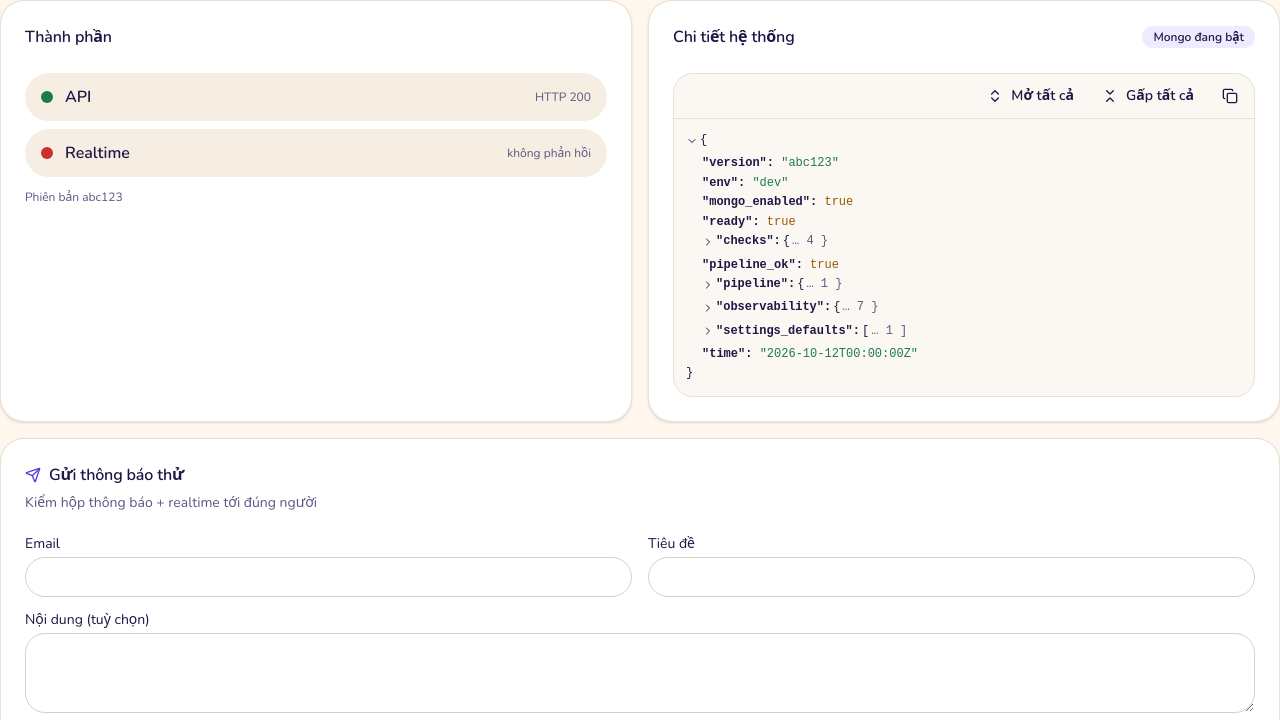
StatusPage (superadmin) › email không có user (1001) → lỗi trong thẻ kèm Mã tra cứu
The image size is (1280, 720).
Type "khong-co@test.local" into the field with test id "send-test-email" at (328, 577), box top-left (25, 557), bottom-right (632, 597)
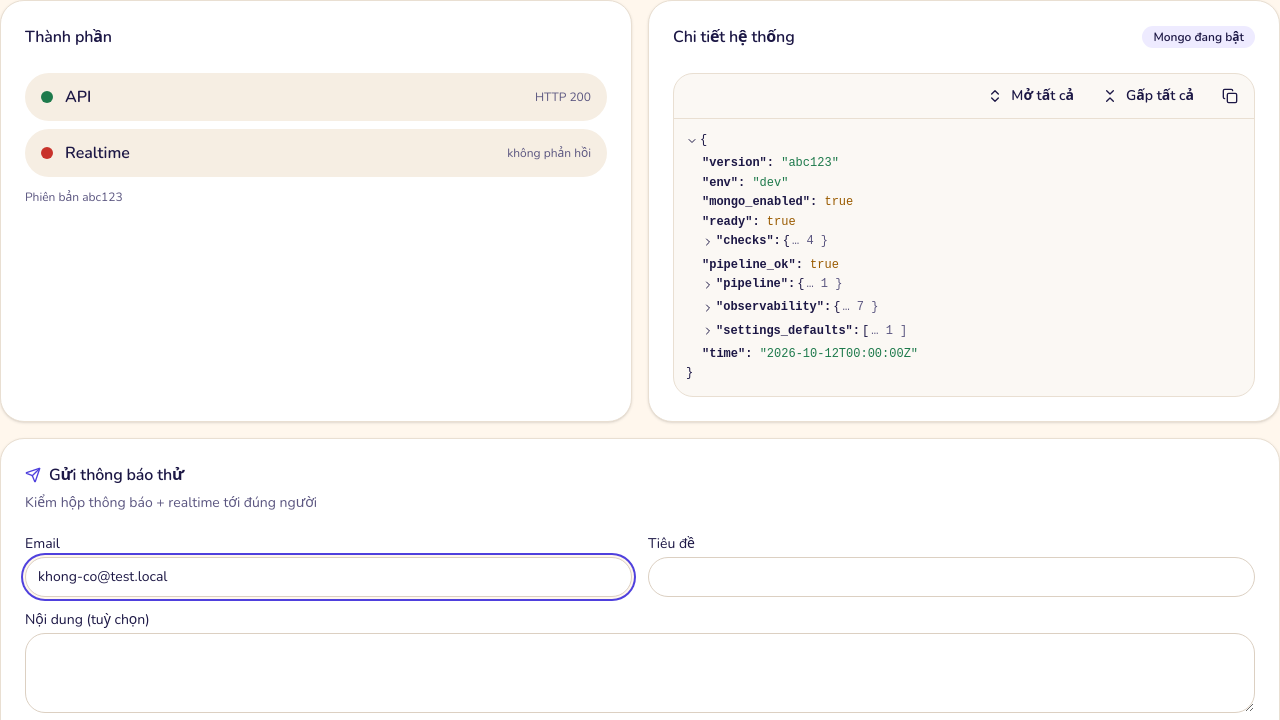
Type "Thử" into the field with test id "send-test-title" at (952, 577), box top-left (648, 557), bottom-right (1255, 597)
(page scrolled)
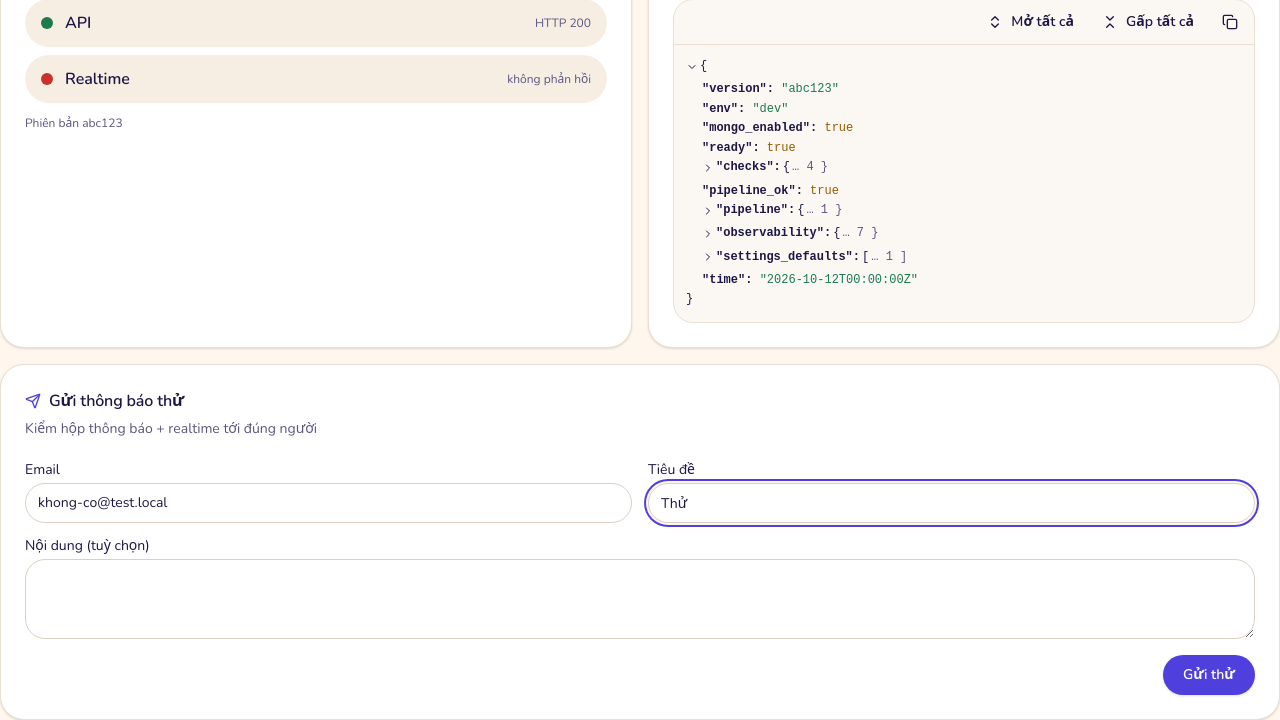
Click the button with test id "send-test-submit" at (1209, 675), box top-left (1163, 655), bottom-right (1255, 695)
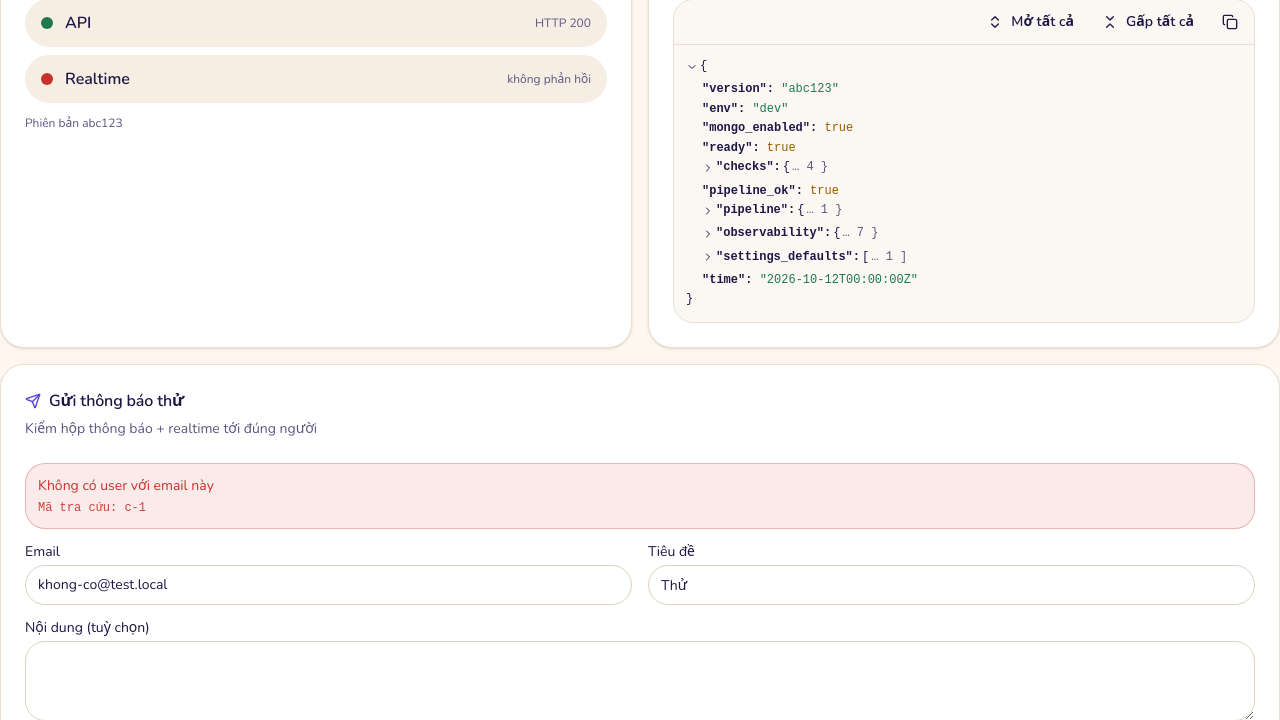
Expected: the text with test id "error-cid" reads "Mã tra cứu: c-1", top-left (38, 501), bottom-right (146, 515)
Expected: the text "Không có user với email này" is shown, top-left (38, 476), bottom-right (214, 495)
